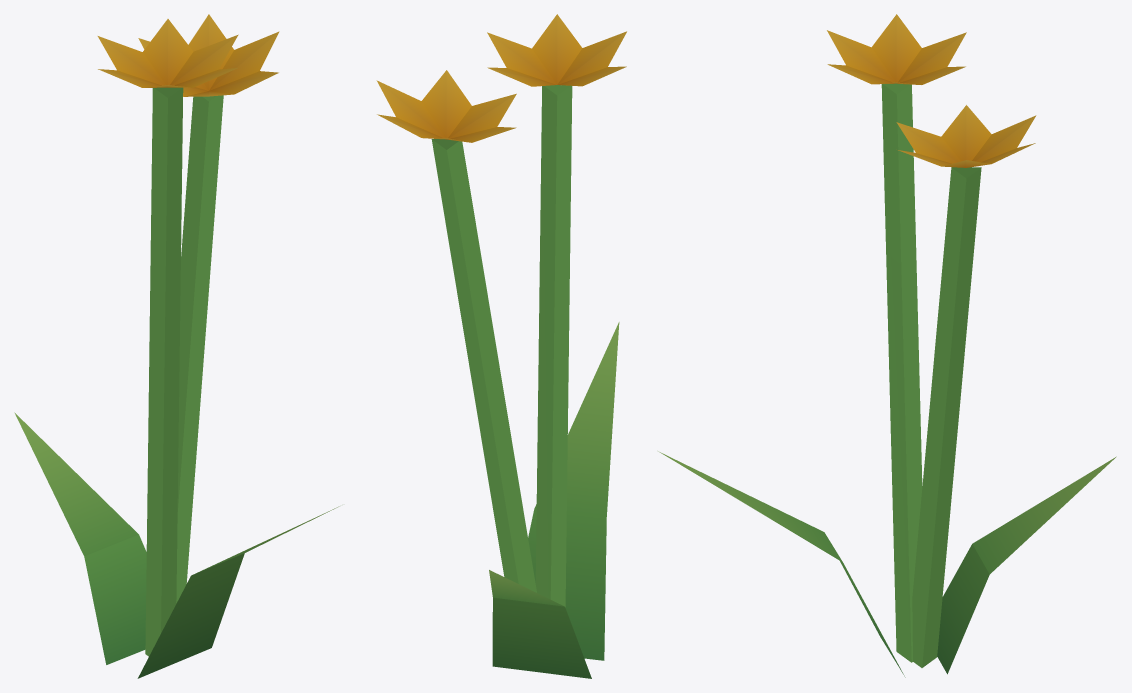
File: env_flowers_gold_low.glb
3 renders of one model, left to right at view 1: azimuth 30°, elevation 25°; view 2: azimuth 150°, elevation 25°; view 3: azimuth 270°, elevation 25°, orthographic.
Parts seen in each view (by area): view 1: env_flowers_gold_low; view 2: env_flowers_gold_low; view 3: env_flowers_gold_low.
Part boxes in pixels (left/top/right/bottom): env_flowers_gold_low: left=14, top=14, right=339, bottom=678; env_flowers_gold_low: left=376, top=14, right=626, bottom=678; env_flowers_gold_low: left=658, top=14, right=1116, bottom=677.
Size of the model in its own units: 0.286 by 0.7704 by 0.5299.
